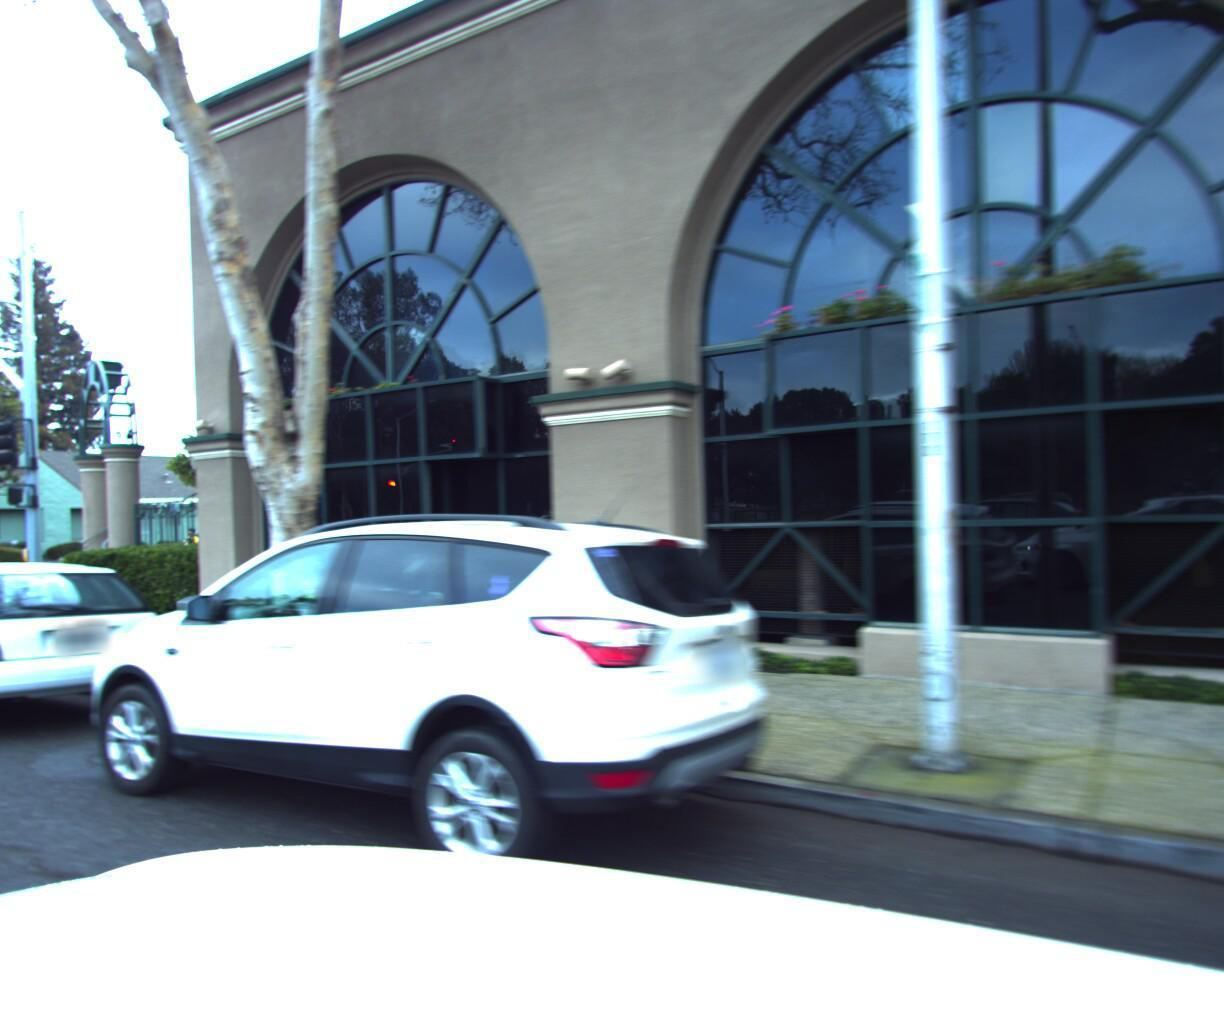car: (55, 505, 802, 958), (0, 554, 186, 761)
